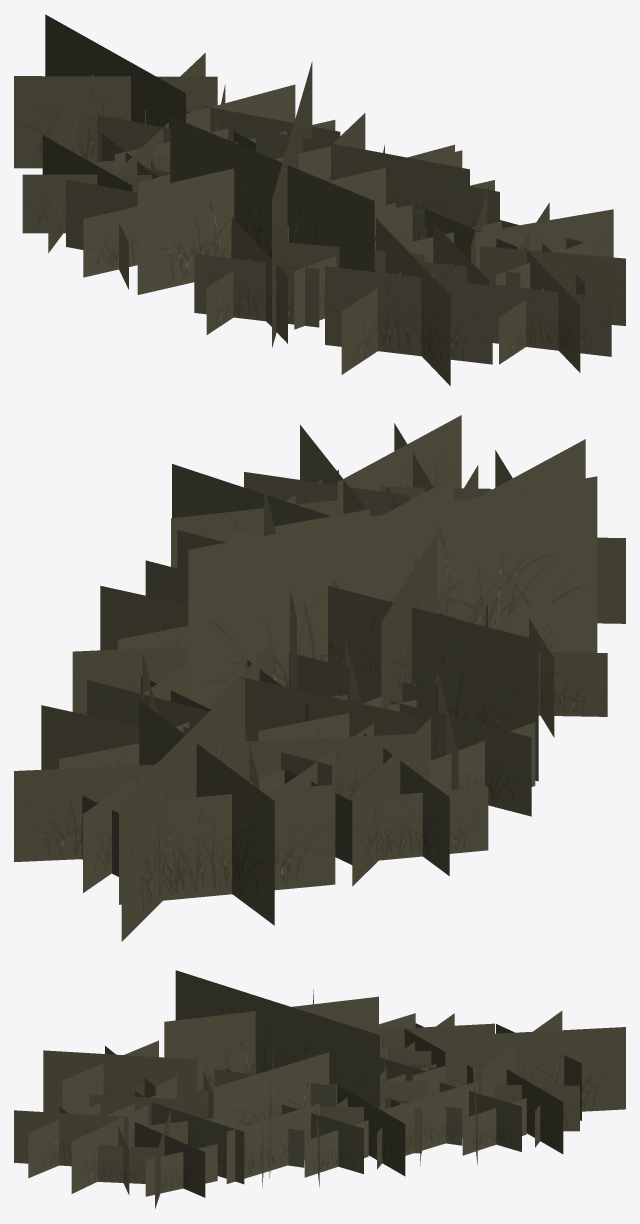
The model's file is mdlGrass01.FBX.
3 views of the same model, one above another, from view 1: azimuth 30°, elevation 25°; view 2: azimuth 150°, elevation 25°; view 3: azimuth 270°, elevation 25° (orthographic). The views are drawn at different scales.
Visible parts, largest first — view 1: mdlGrass01; view 2: mdlGrass01; view 3: mdlGrass01.
Part boxes in pixels (box(x1,y1,x2,y2)): mdlGrass01: box(14, 14, 625, 385); mdlGrass01: box(14, 415, 625, 941); mdlGrass01: box(14, 970, 625, 1208).
Size of the model in its own units: 356 by 128 by 606.
